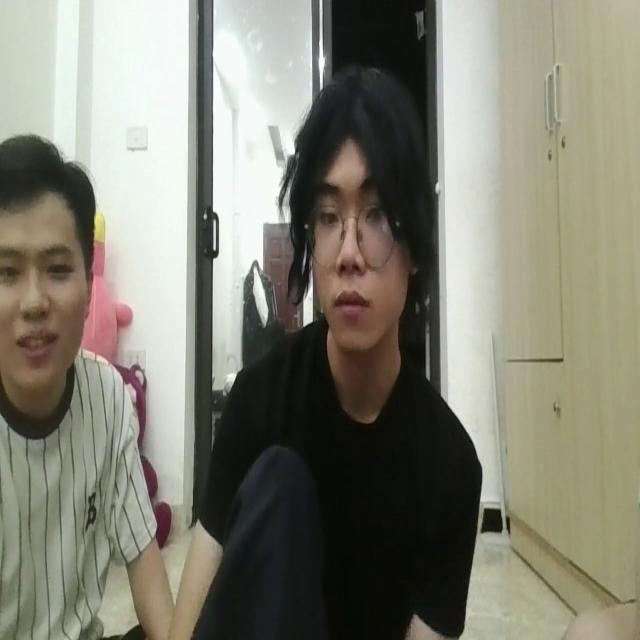extra_person: (0, 119, 179, 640)
student: (181, 55, 477, 640)
